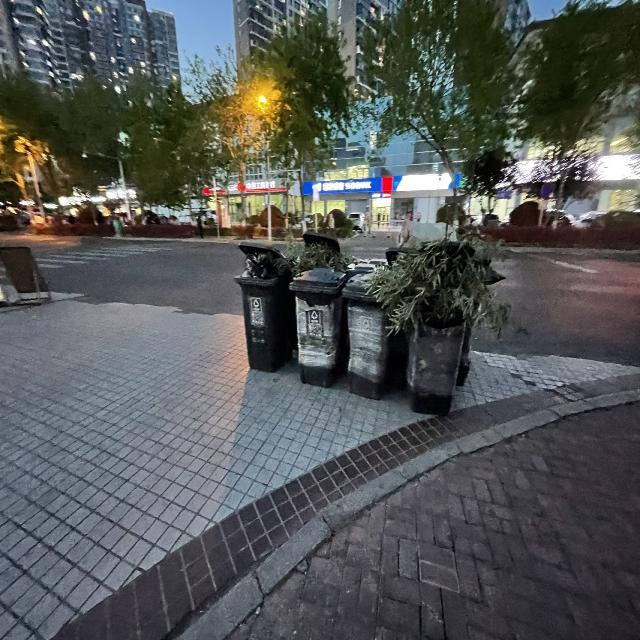garbage_bin: (289, 266, 347, 387), (341, 272, 391, 400)
overflow: (365, 216, 490, 414), (232, 240, 292, 372)
